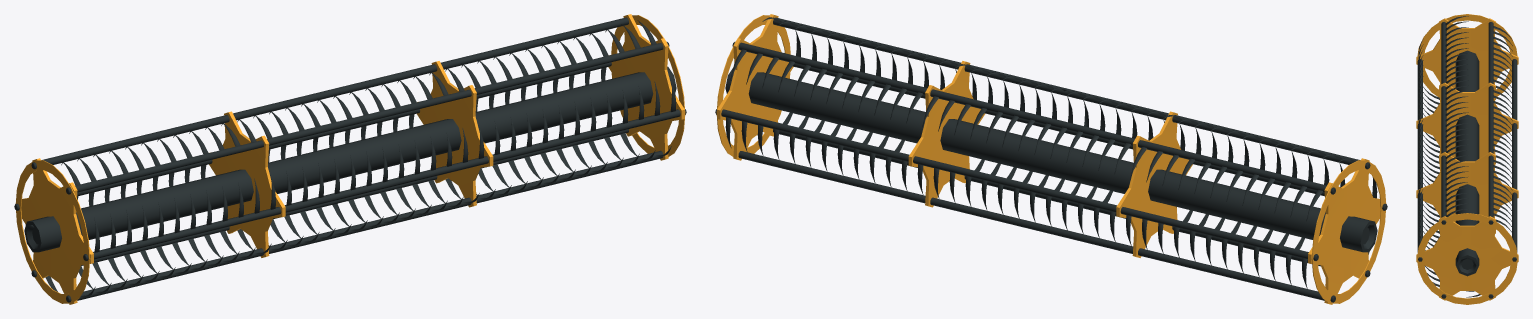
File: Straw_Dog_4_jaw.obj
3 views of the same model, side by side, from view 1: azimuth 30°, elevation 25°; view 2: azimuth 150°, elevation 25°; view 3: azimuth 270°, elevation 25° (orthographic). The views are drawn at different scales.
Parts seen in each view (by area): view 1: jaw_Cube.005; view 2: jaw_Cube.005; view 3: jaw_Cube.005.
Part boxes in pixels (x1=…): jaw_Cube.005: x1=14, y1=14, x2=686, y2=304; jaw_Cube.005: x1=715, y1=14, x2=1387, y2=304; jaw_Cube.005: x1=1416, y1=14, x2=1518, y2=304.
Bounding box in the file's own units: 9.9 × 2.04 × 2.02.
